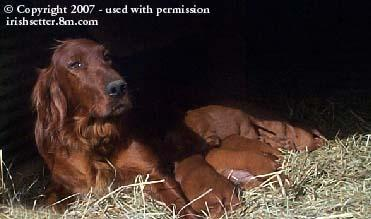Irish_setter: (30, 36, 327, 216)
